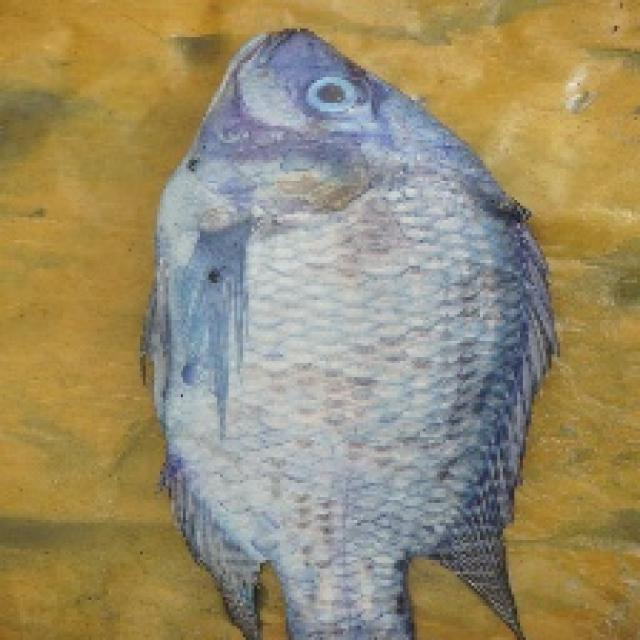Non-Fresh: (157, 150, 538, 585), (290, 60, 372, 128)
